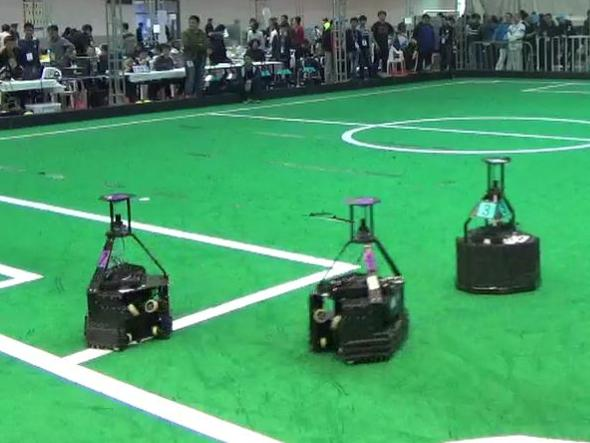robot: (299, 188, 421, 368), (70, 184, 181, 353), (439, 150, 554, 301)
